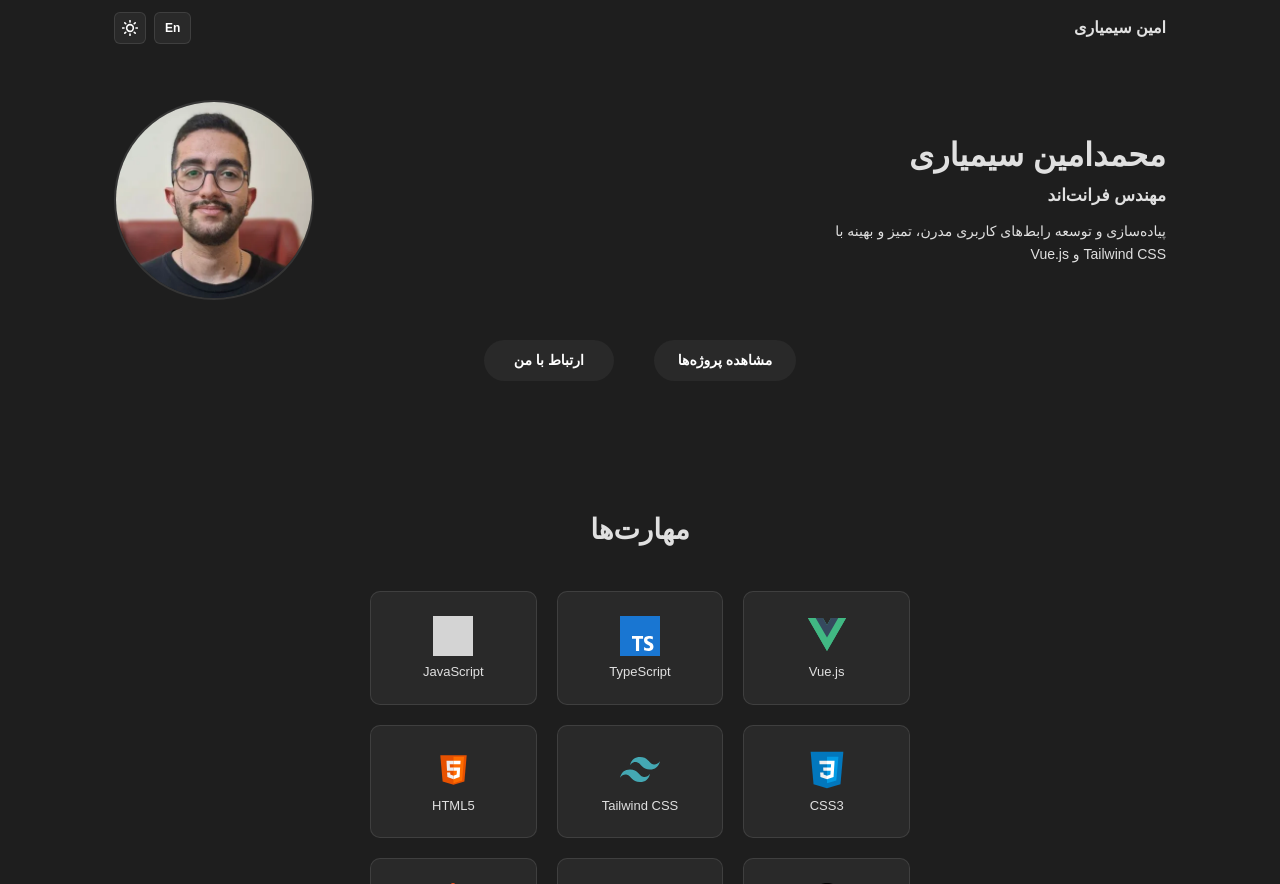
Test: App › Language switching › can switch to english
Click the button with class "lang-toggle" at (173, 28), box 154,12 -> 191,44
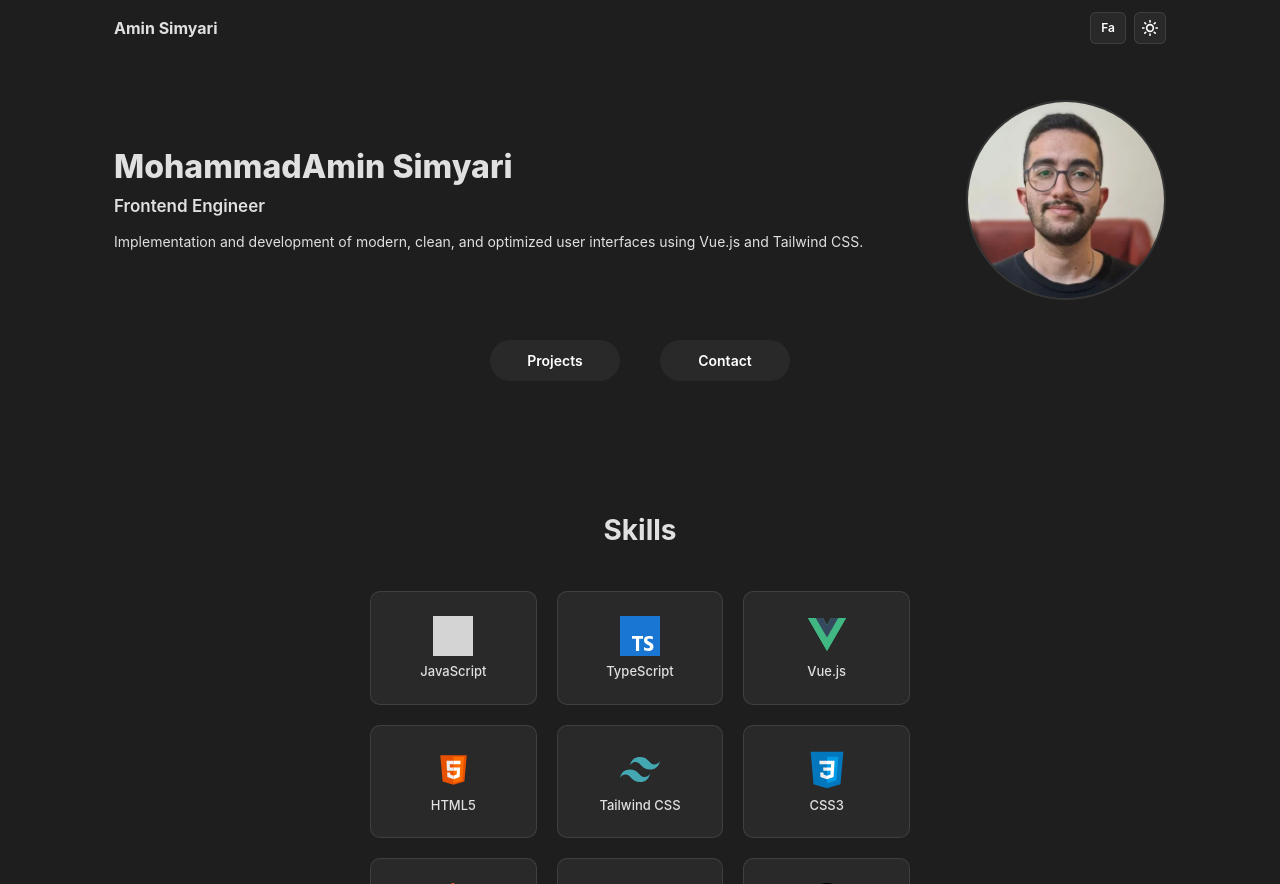
Expected: the text "Amin Simyari" is shown, 114,16 -> 218,40
